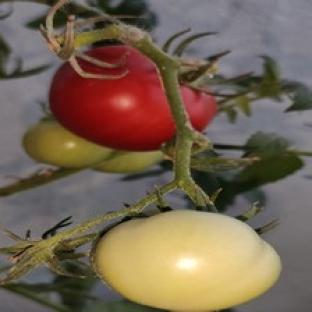Tomato: (91, 211, 281, 311), (49, 45, 175, 150), (23, 119, 112, 168), (95, 151, 164, 172)
